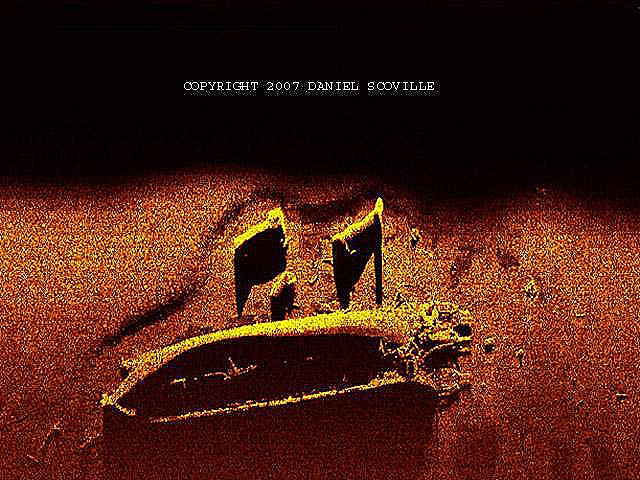ship: (98, 302, 476, 426)
